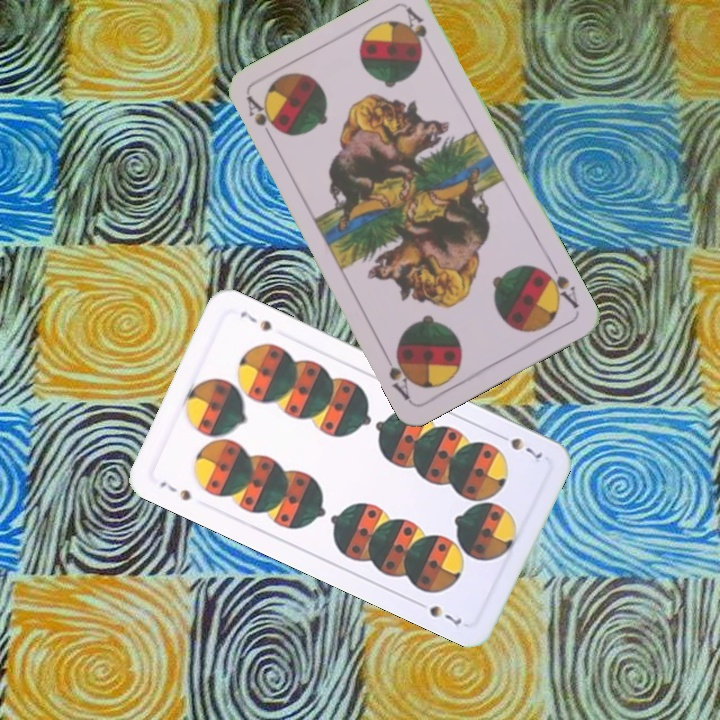S7: (493, 429, 545, 461), (155, 477, 194, 504)
SA: (537, 258, 582, 311), (242, 92, 282, 147)
